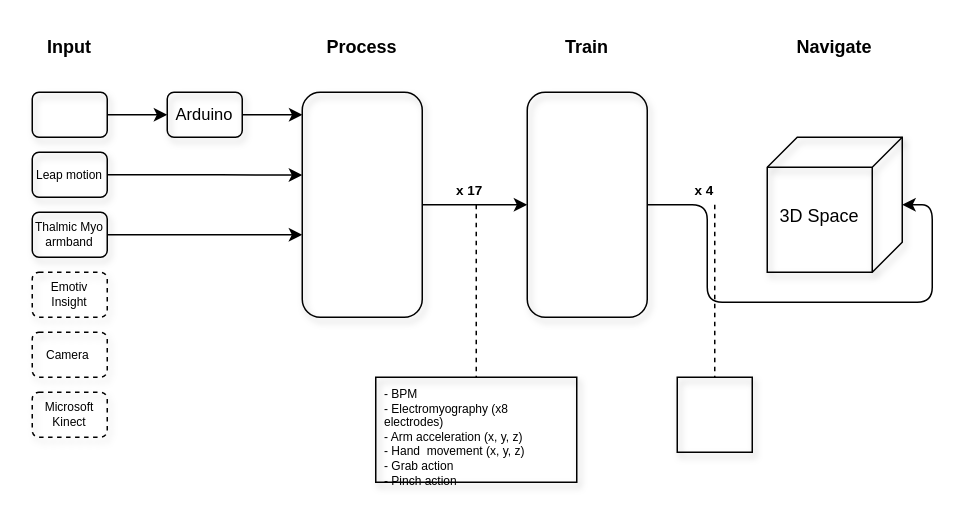
Some shapes in this 971 by 519 pixel diagram are drawn without their labels. Each missing label, with the centre of its shape:
- x - y - z - weight: [715,416]
eHealth Pulsioximeter: [70,116]
Middleware: [363,206]
Wekinator Neural Network regression: [588,206]
